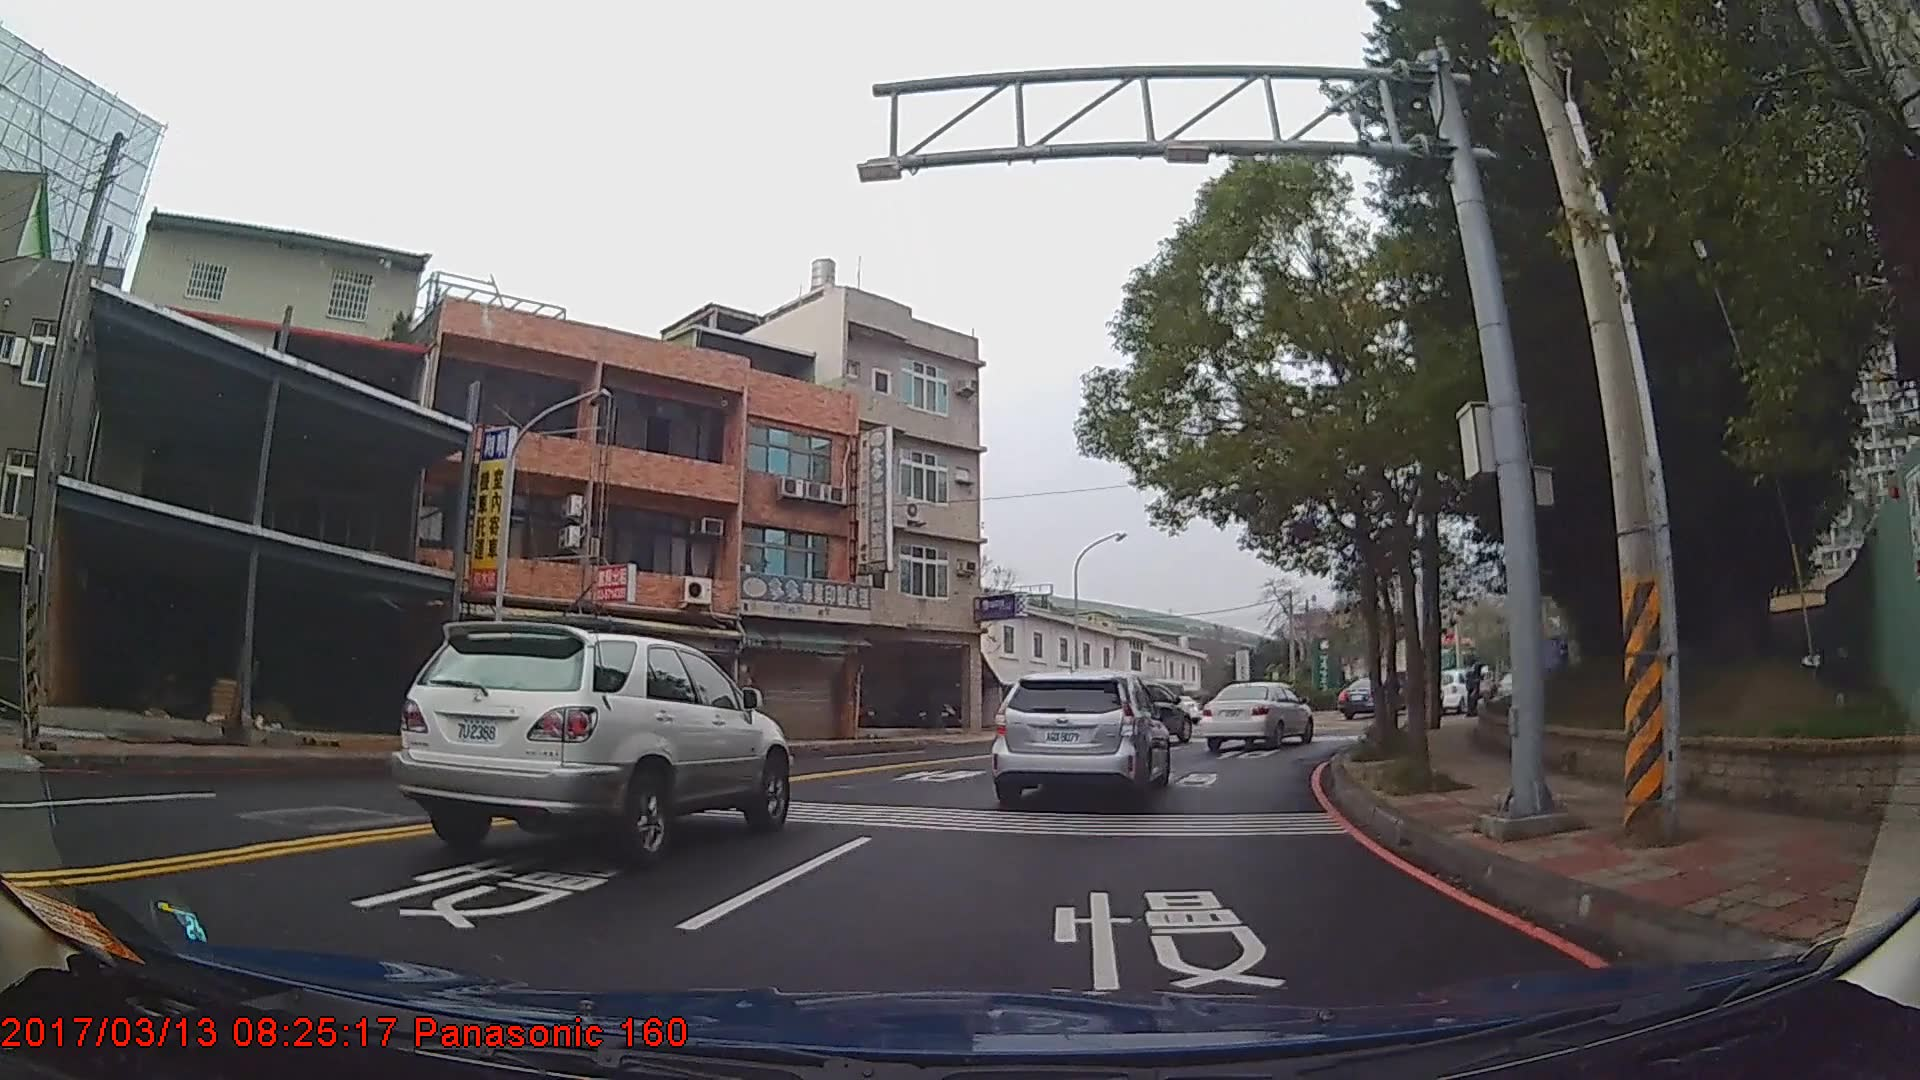vehicle: (392, 618, 791, 865), (982, 667, 1166, 810), (1195, 680, 1312, 750), (1333, 676, 1400, 717)
